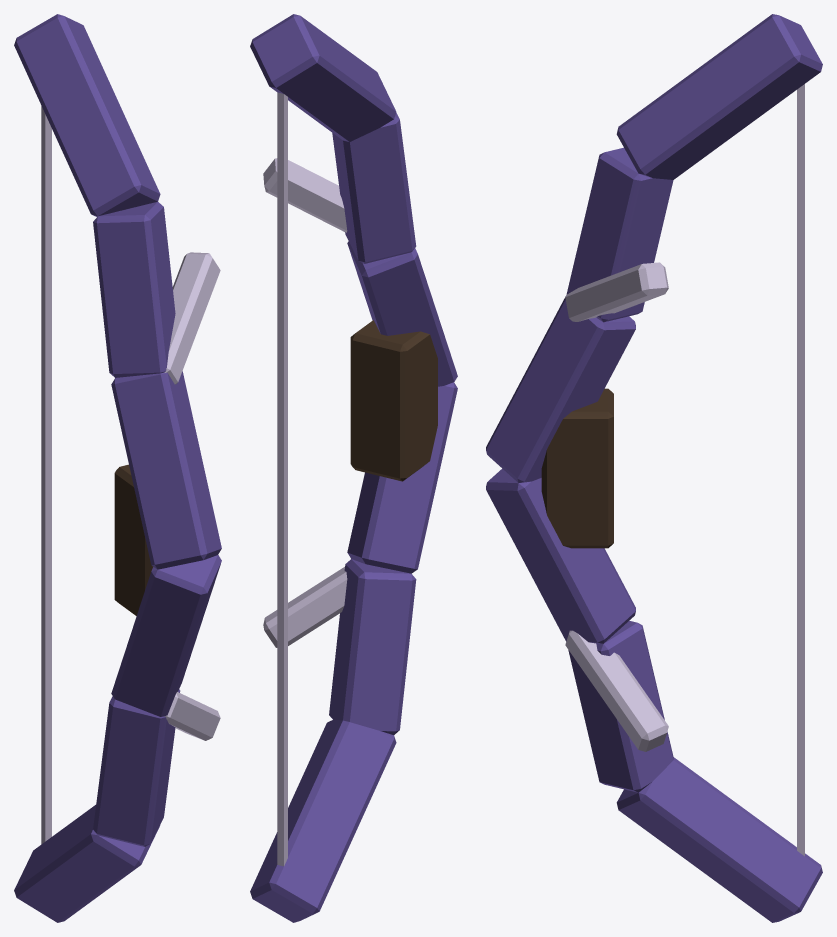
File: archer_lightning.glb
The picture shows the model from 3 angles, left to right: view 1: azimuth 30°, elevation 25°; view 2: azimuth 150°, elevation 25°; view 3: azimuth 270°, elevation 25°; orthographic projection.
Visible parts, largest first — view 1: weapon.018; view 2: weapon.018; view 3: weapon.018.
Boxes of the visible parts, x1,y1,x2,y2 form: weapon.018: [14, 14, 221, 922]; weapon.018: [250, 14, 457, 922]; weapon.018: [486, 14, 822, 922].
Bounding box in the file's own units: 0.2262 × 1.52 × 0.5129.
